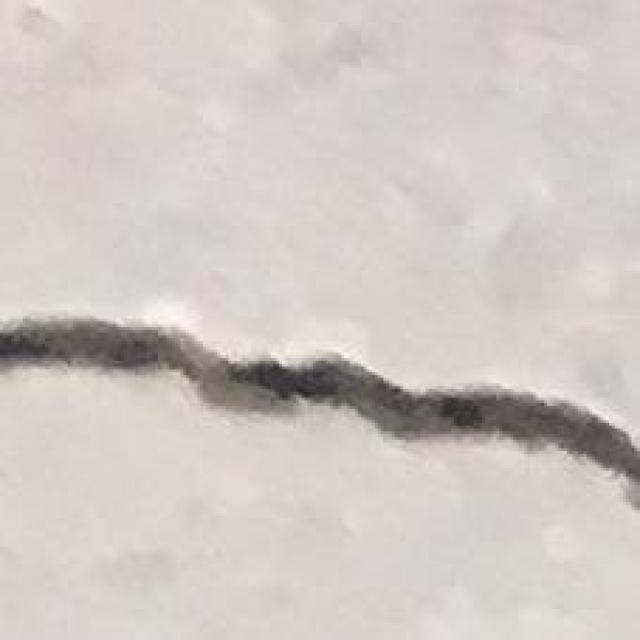Crack: (8, 293, 640, 513)
